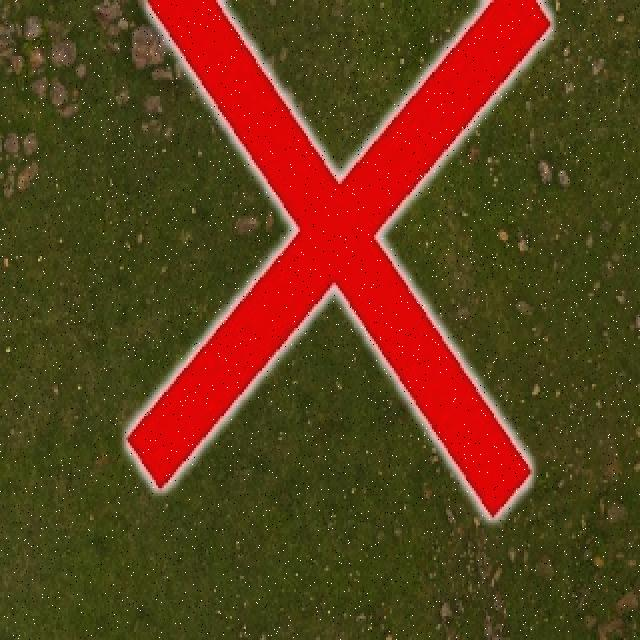x_marker: (127, 1, 549, 514)
